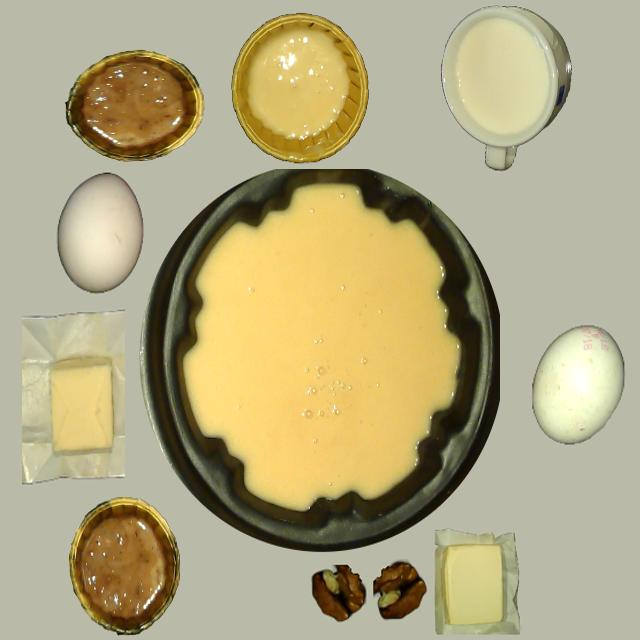Milk: (419, 27, 601, 165)
Walnut: (295, 563, 422, 630)
